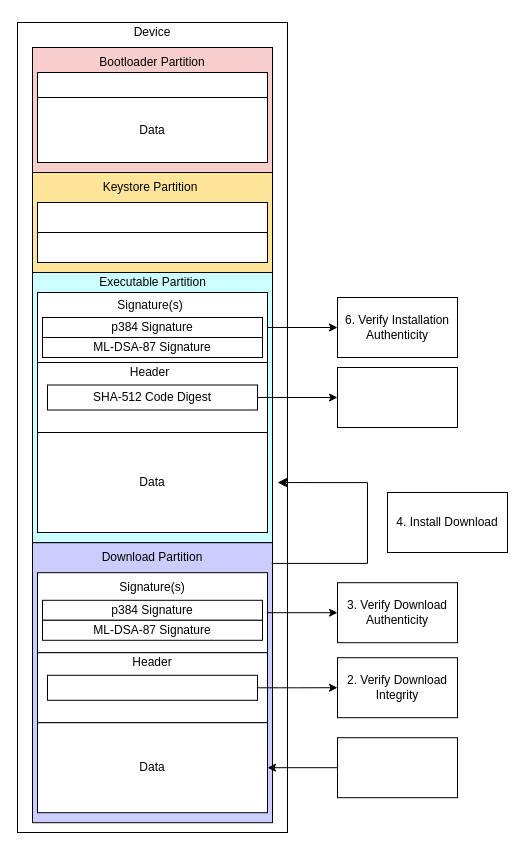
Some shapes in this 525 by 850 pixel diagram are drawn without their labels. The centre of each missing label's shape, as x and y in pixels:
"1. Download Image" belongs at (397,767).
"5. Verify Installation Integrity" belongs at (397,397).
"IVT" belongs at (152,85).
"ML-DSA-87 Public Key" belongs at (152,247).
"p384 Public Key" belongs at (152,217).
"SHA-512 Download Code Digest" belongs at (152,687).
